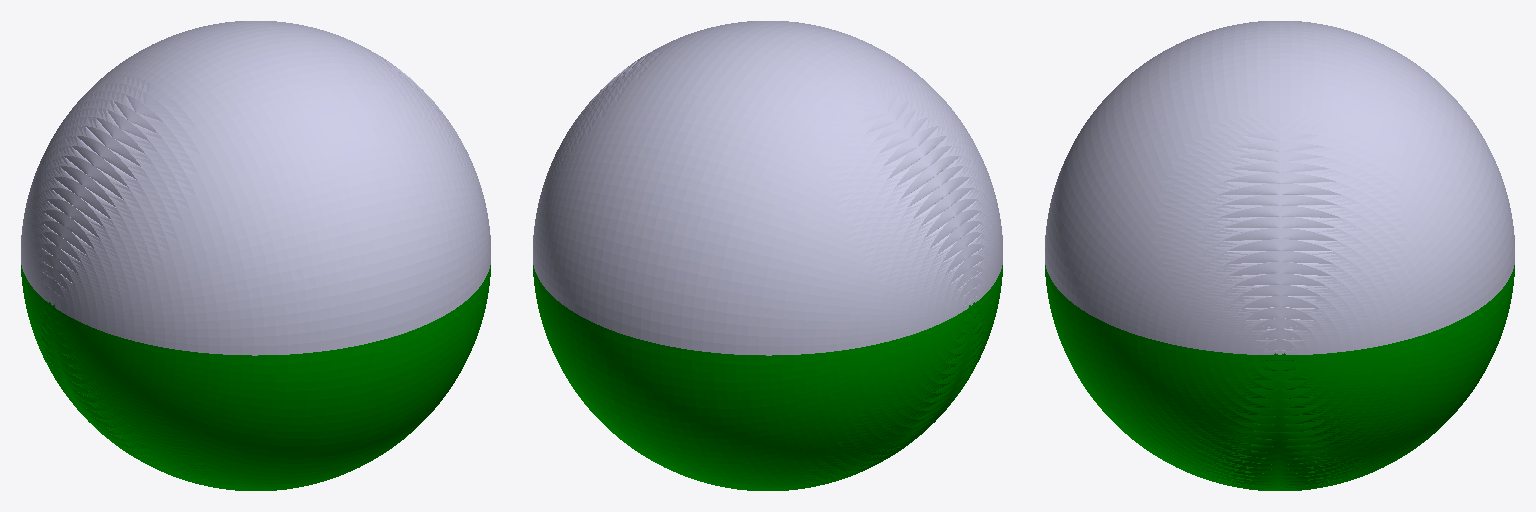
The model's file is Шарик.obj.
The picture shows the model from 3 angles: view 1: azimuth 30°, elevation 25°; view 2: azimuth 150°, elevation 25°; view 3: azimuth 270°, elevation 25°; orthographic projection.
Size of the model in its own units: 20 by 20 by 20.